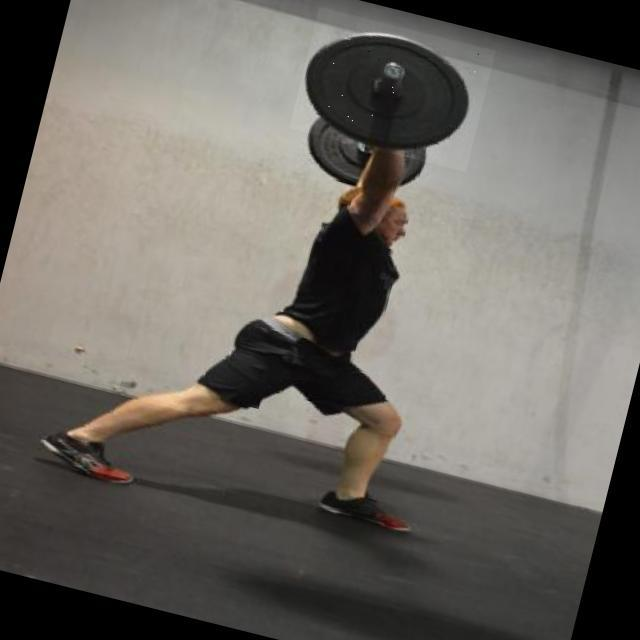barbell: (290, 8, 497, 173)
